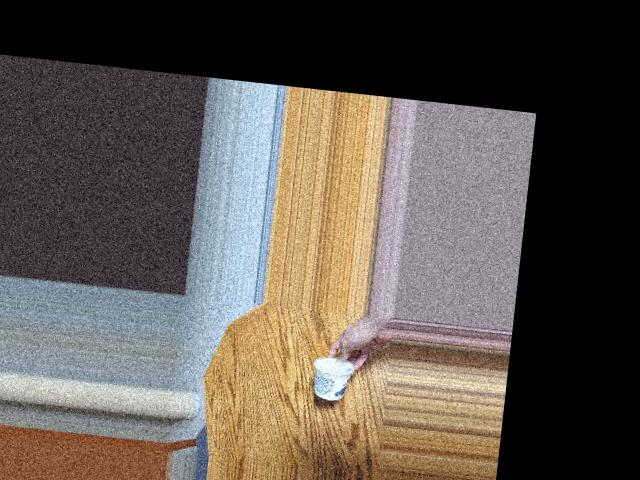cotage: (318, 352, 354, 398)
